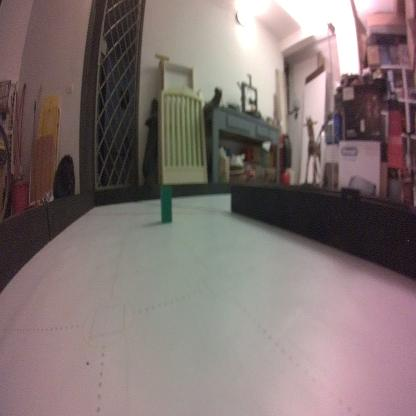green: (160, 187, 172, 224)
